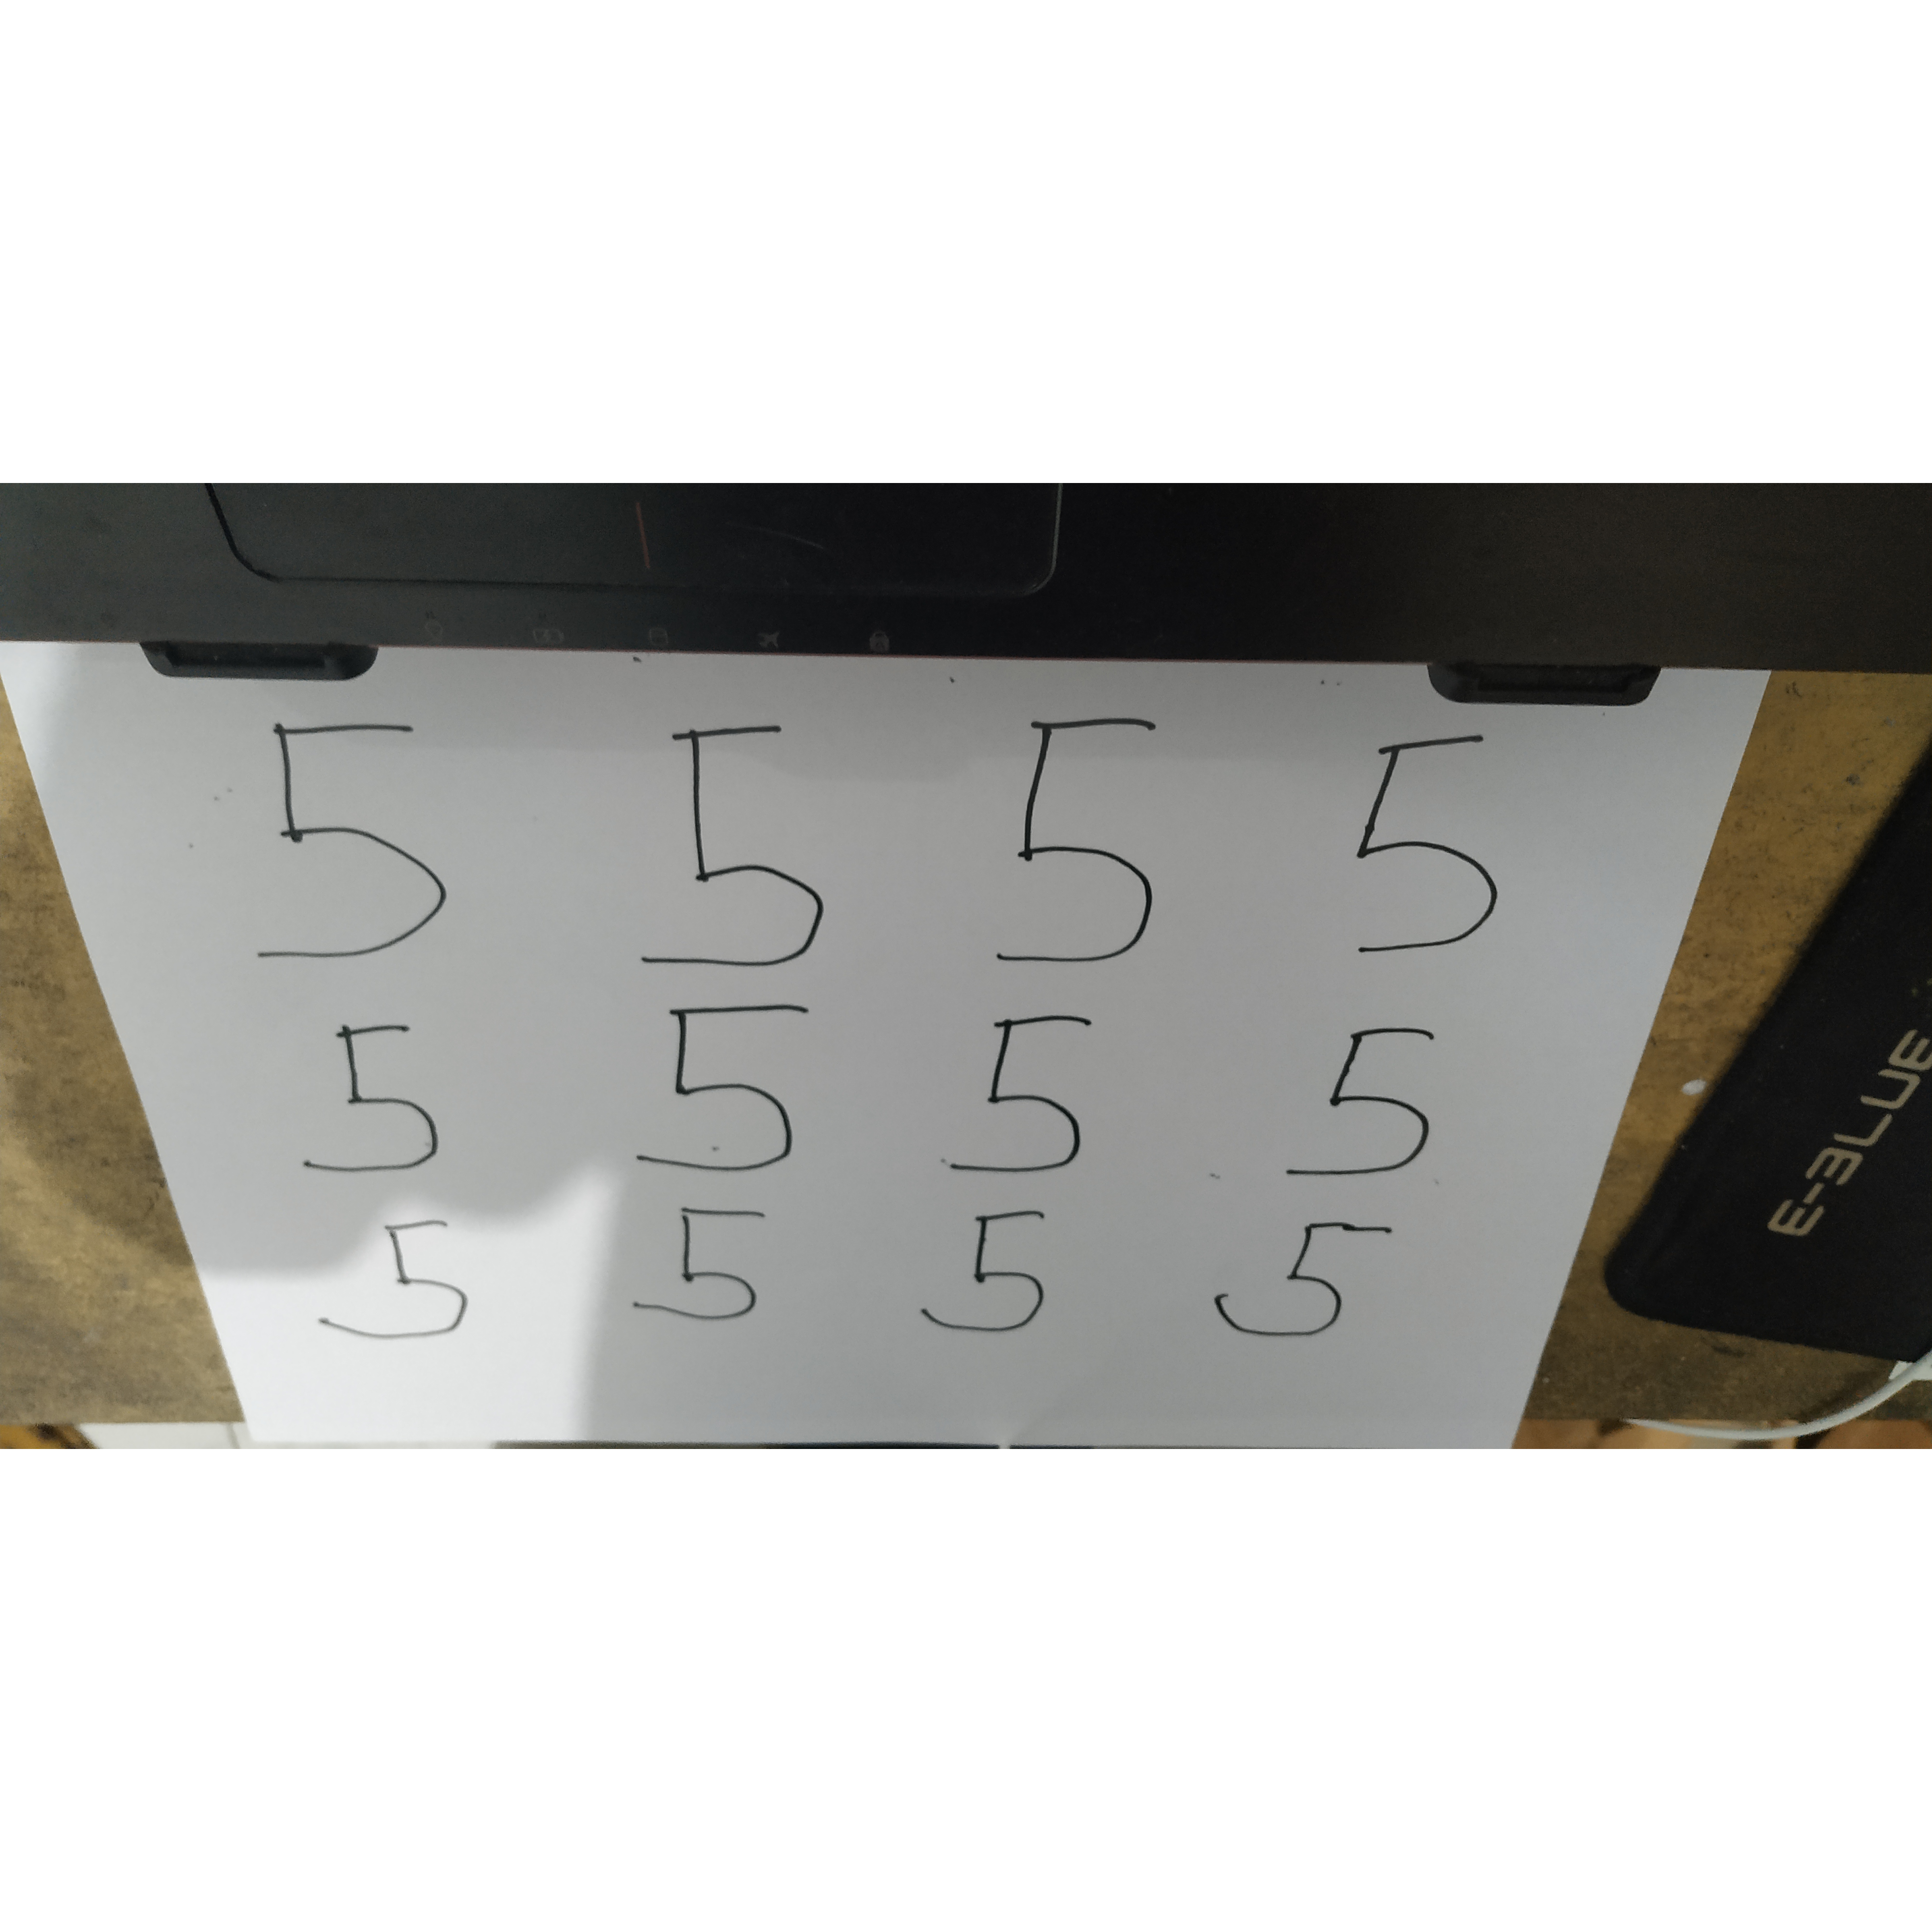num5: (213, 699, 478, 974), (616, 714, 843, 974), (981, 714, 1170, 968), (1343, 729, 1517, 966), (629, 999, 818, 1180), (927, 1002, 1103, 1191), (1286, 1006, 1446, 1207), (288, 1014, 455, 1186), (307, 1209, 484, 1357), (1210, 1218, 1402, 1350), (916, 1207, 1059, 1348), (626, 1199, 771, 1340)
